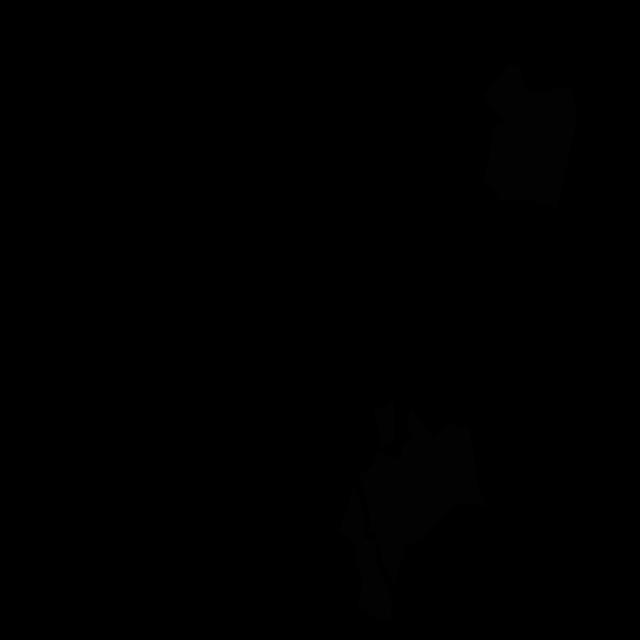cardboard: (359, 409, 486, 548), (483, 64, 578, 209), (354, 531, 404, 620), (339, 486, 365, 550), (372, 398, 395, 447)
